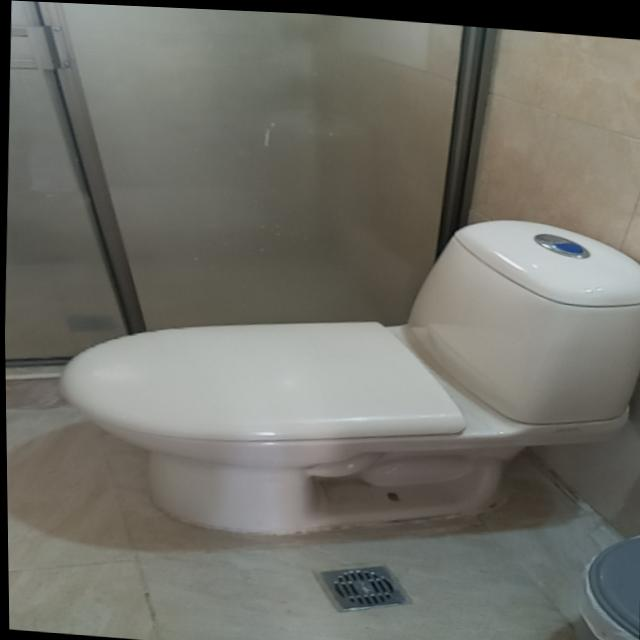toilet: (45, 175, 640, 565)
